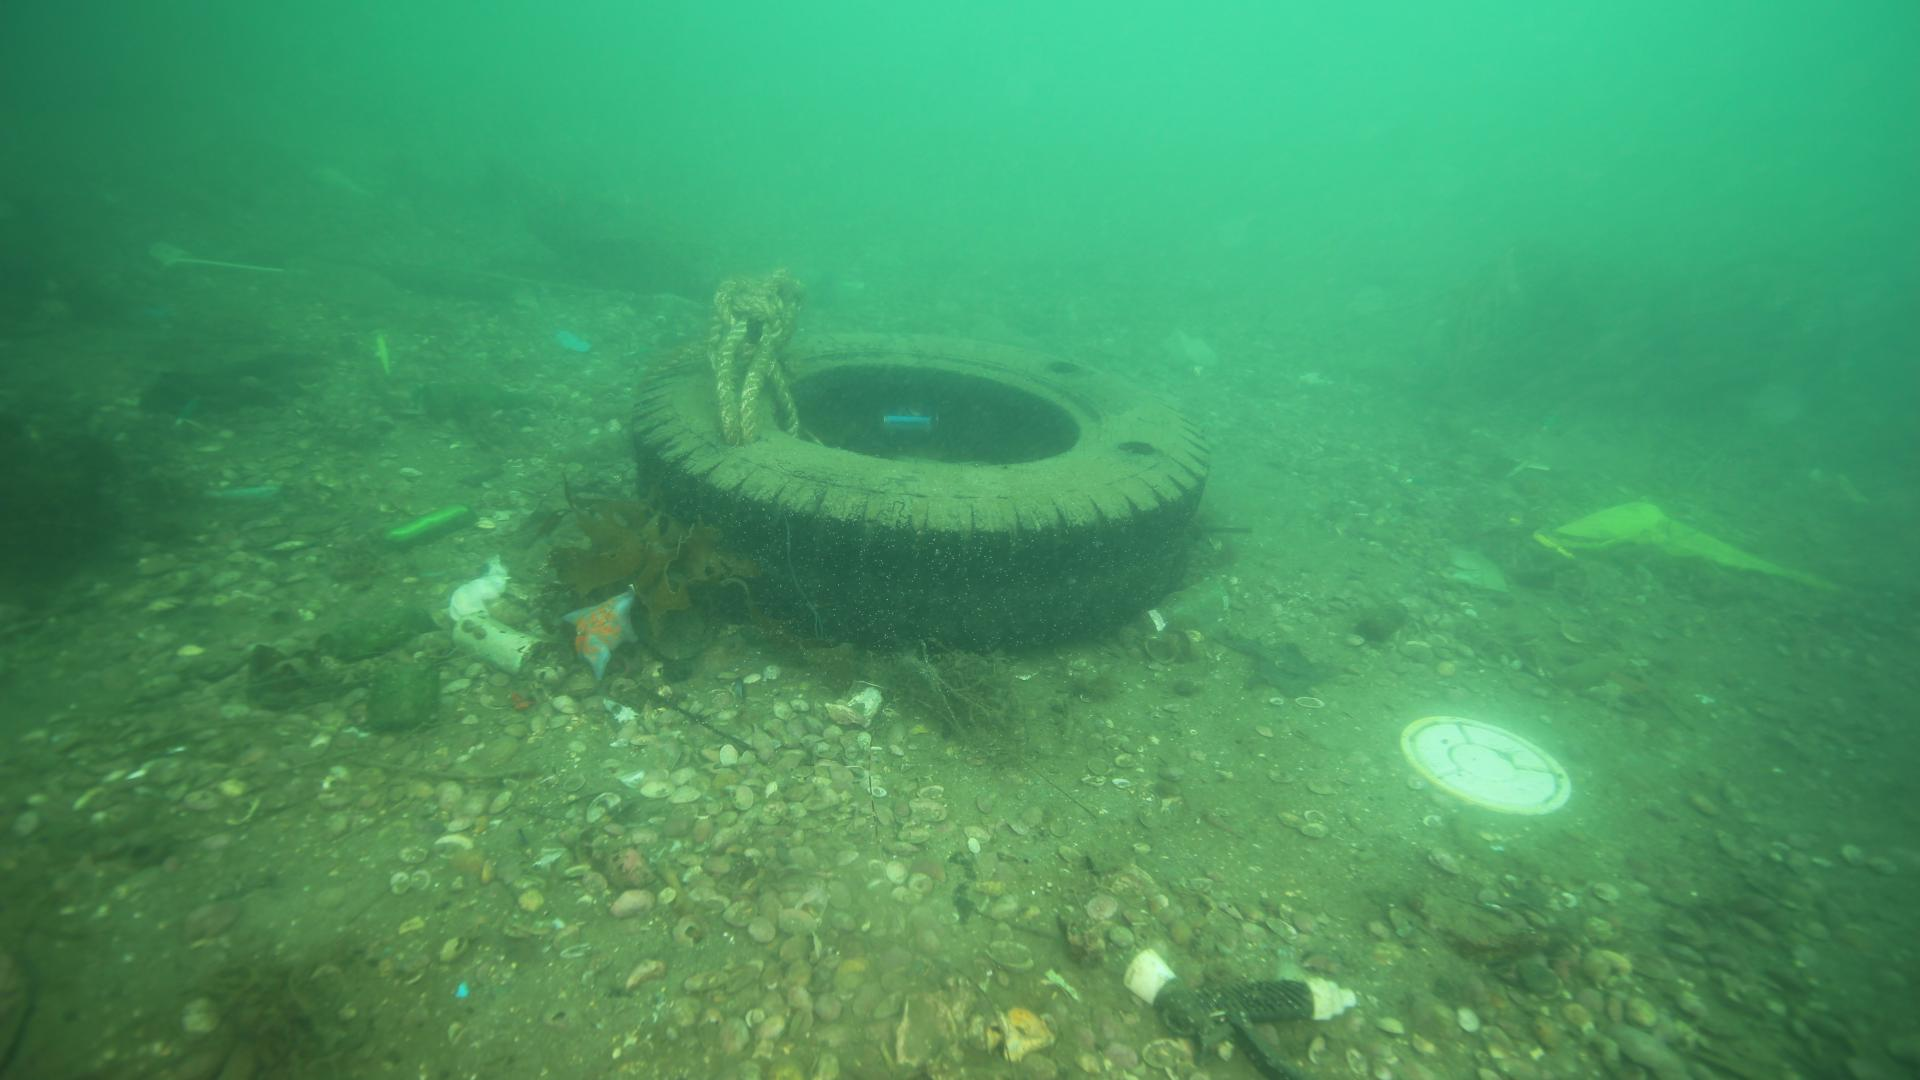bundle of ropes: (702, 265, 814, 446)
tire: (626, 327, 1212, 651)
